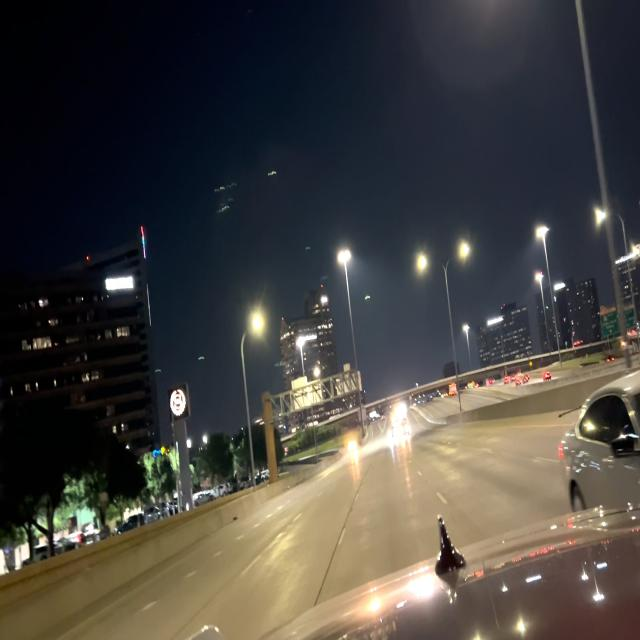back-of-sign: (290, 374, 323, 412), (334, 363, 363, 401)
